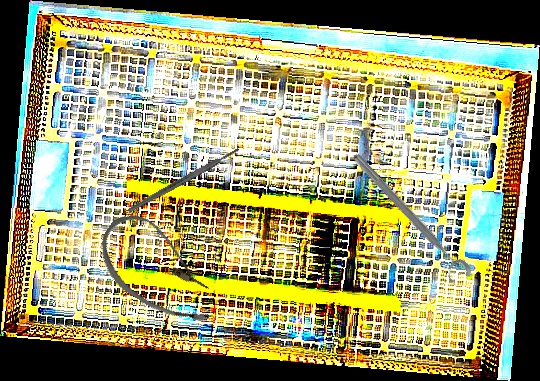Cannula: (84, 204, 236, 337)
Fixation Ring: (342, 149, 476, 291)
Scalpel Handle: (126, 146, 241, 214)
